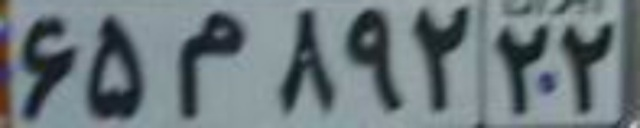2: (410, 6, 467, 111), (561, 20, 619, 113), (492, 23, 548, 114)
5: (84, 13, 151, 118)
6: (15, 18, 77, 121)
8: (275, 8, 335, 111)
9: (344, 6, 404, 113)
mim: (171, 13, 242, 118)
